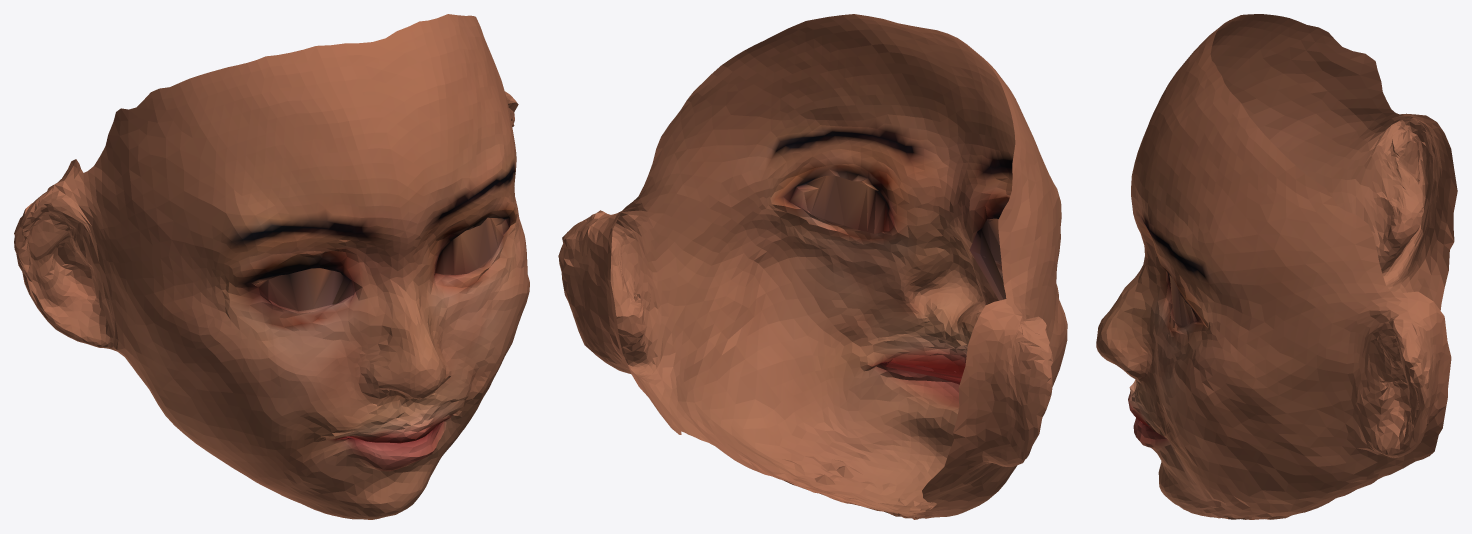
Rendered from seed0006.obj.
3 renders of one model, left to right at view 1: azimuth 30°, elevation 25°; view 2: azimuth 150°, elevation 25°; view 3: azimuth 270°, elevation 25°, orthographic. The views are drawn at different scales.
Size of the model in its own units: 229 by 211 by 149.
